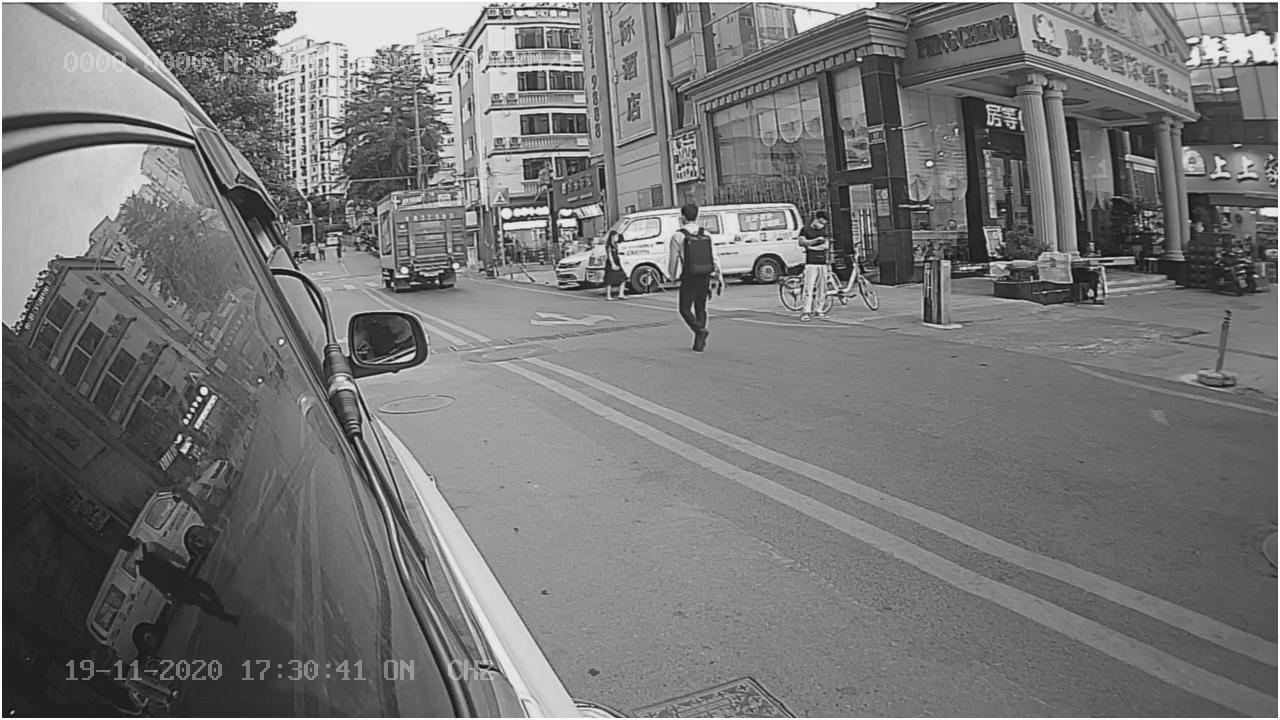person: (663, 200, 726, 351)
